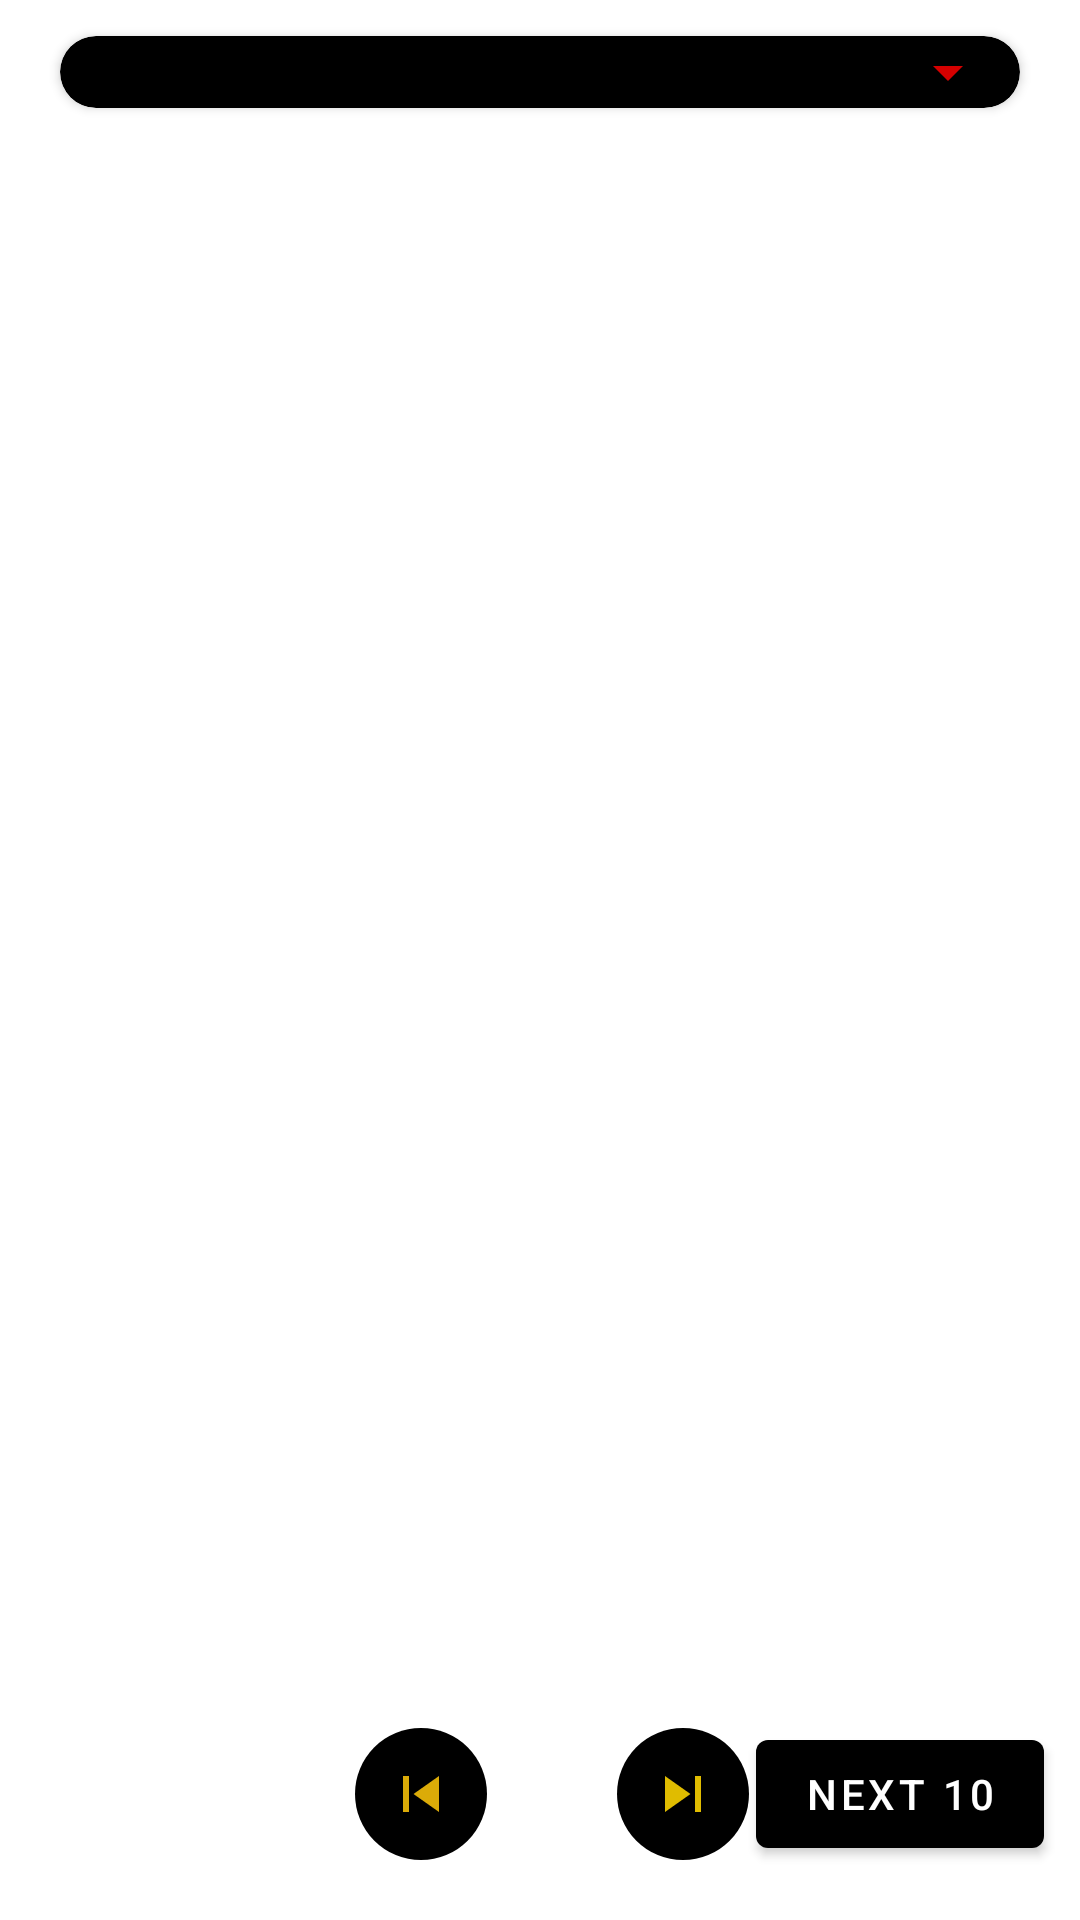

Named icons in this screenshot (1080px×1920px) and their centers, point (x, y):
back: point (421, 1794)
